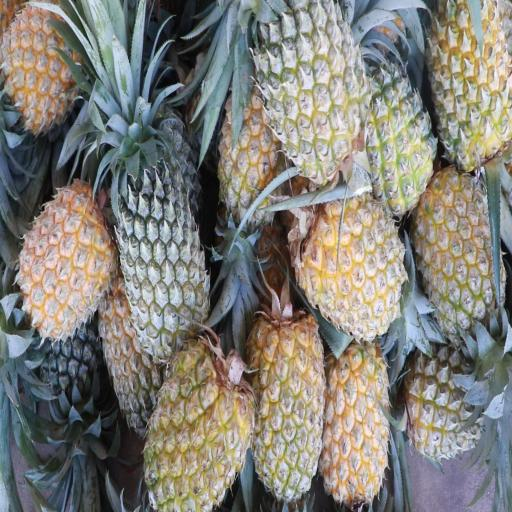------------------------------: (254, 0, 362, 175), (415, 172, 501, 322), (438, 3, 512, 164), (102, 278, 166, 432), (406, 343, 486, 457)
Pineapple - v8 v1: (141, 343, 257, 509), (300, 186, 401, 334), (18, 186, 114, 332), (249, 310, 323, 496), (4, 4, 94, 121), (322, 346, 386, 502), (363, 70, 432, 206), (215, 82, 279, 225)
